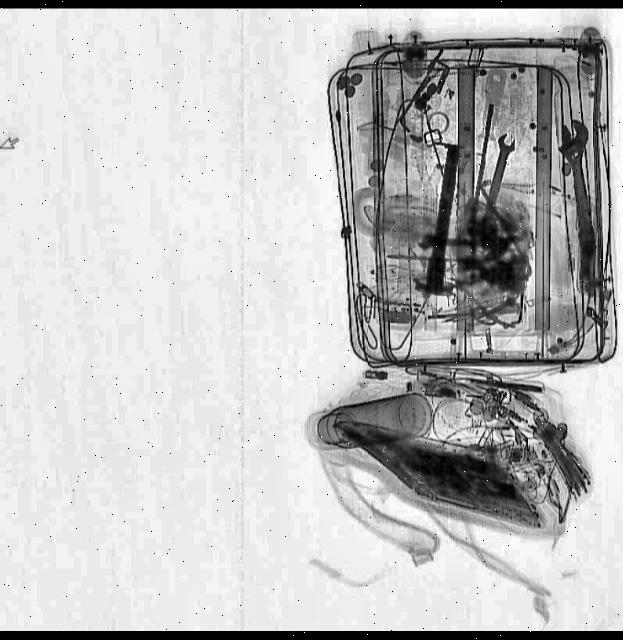Wrench: (552, 118, 604, 282), (472, 132, 517, 223)
